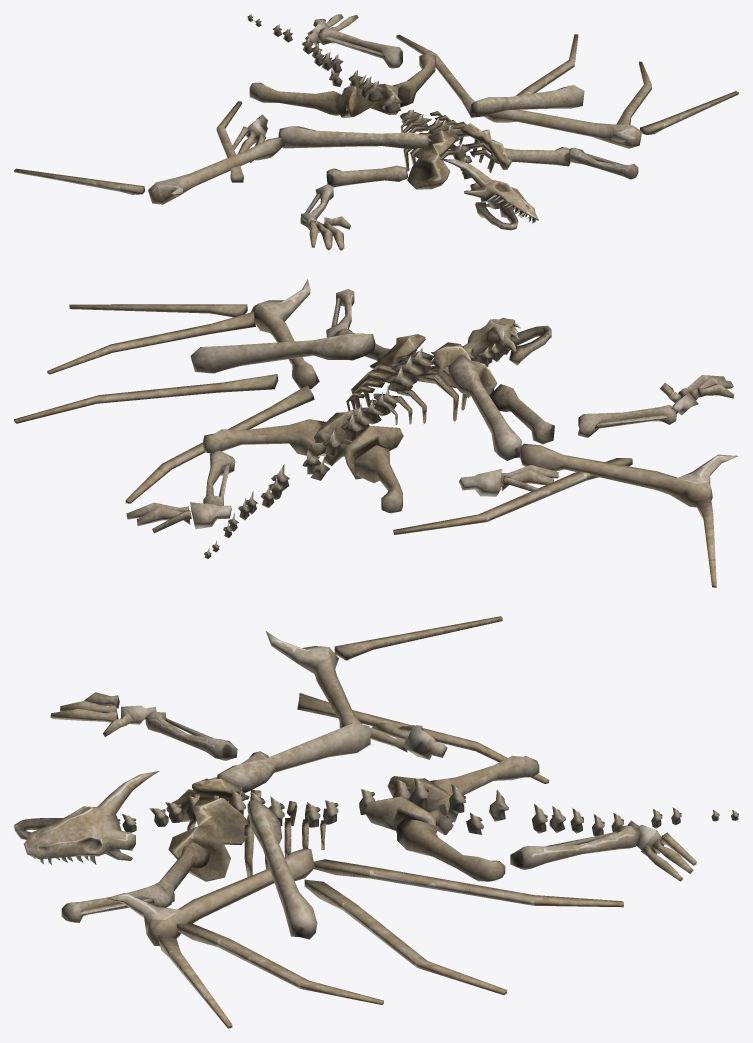
Rendered from Toon_Skeleton_03.fbx.
The picture shows the model from 3 angles, top to bottom: view 1: azimuth 30°, elevation 25°; view 2: azimuth 150°, elevation 25°; view 3: azimuth 270°, elevation 25°; orthographic projection. The views are drawn at different scales.
Parts seen in each view (by area): view 1: Toon_Skeleton_03; view 2: Toon_Skeleton_03; view 3: Toon_Skeleton_03.
Part boxes in pixels (x1,y1,x2,y2): Toon_Skeleton_03: [14, 14, 738, 250]; Toon_Skeleton_03: [14, 279, 738, 587]; Toon_Skeleton_03: [14, 616, 738, 1028].
Bounding box in the file's own units: 75.52 × 7.3 × 56.5.
